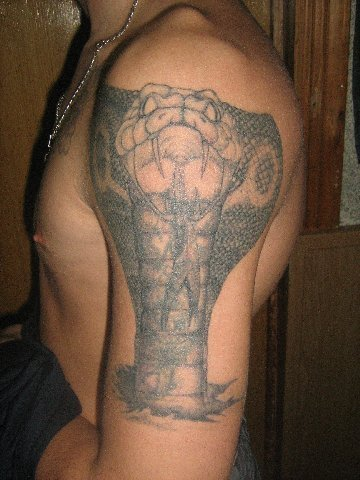tatu7_zmeya: (96, 82, 287, 426)
